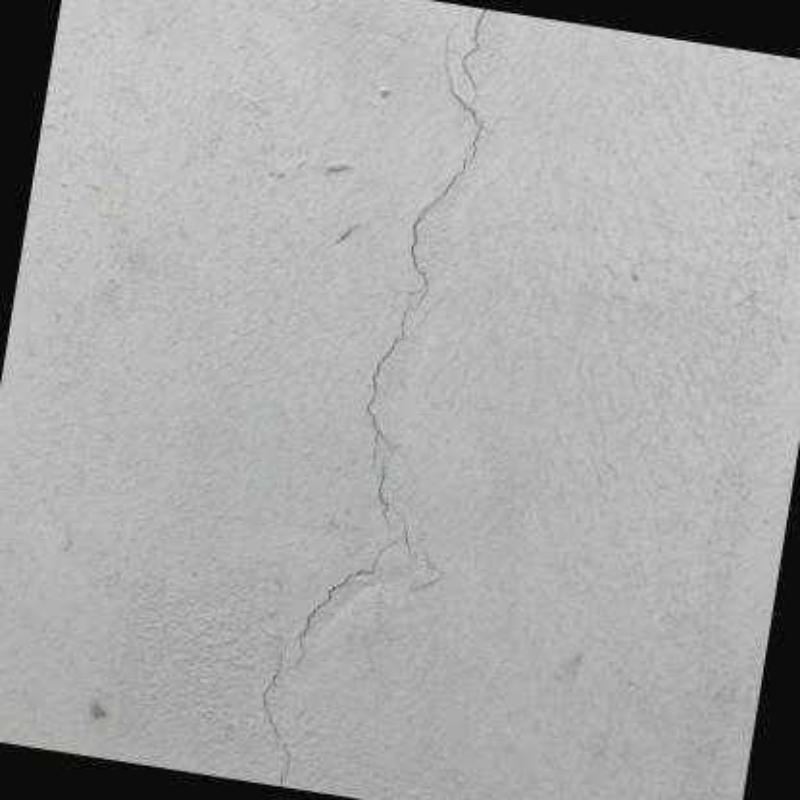crack: (248, 6, 506, 782)
